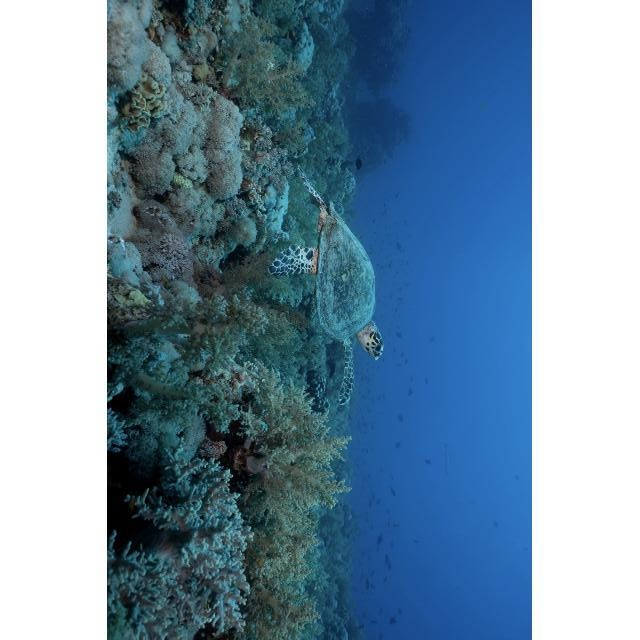turtle: (268, 166, 385, 407)
